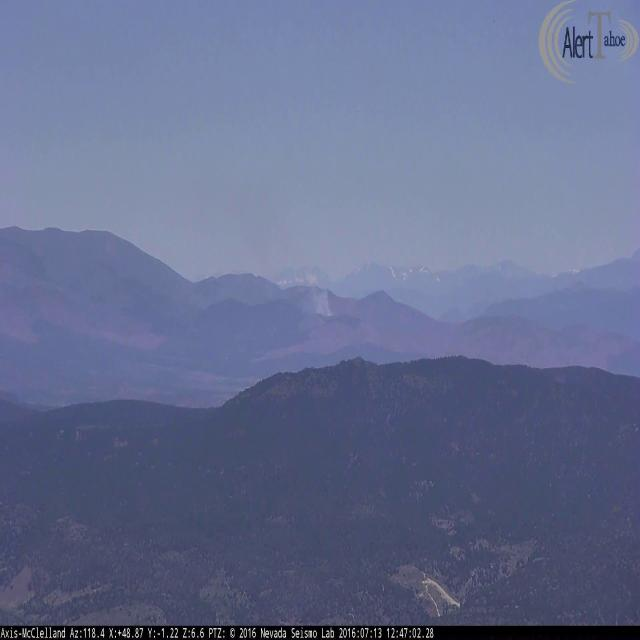smoke: (241, 171, 332, 317)
